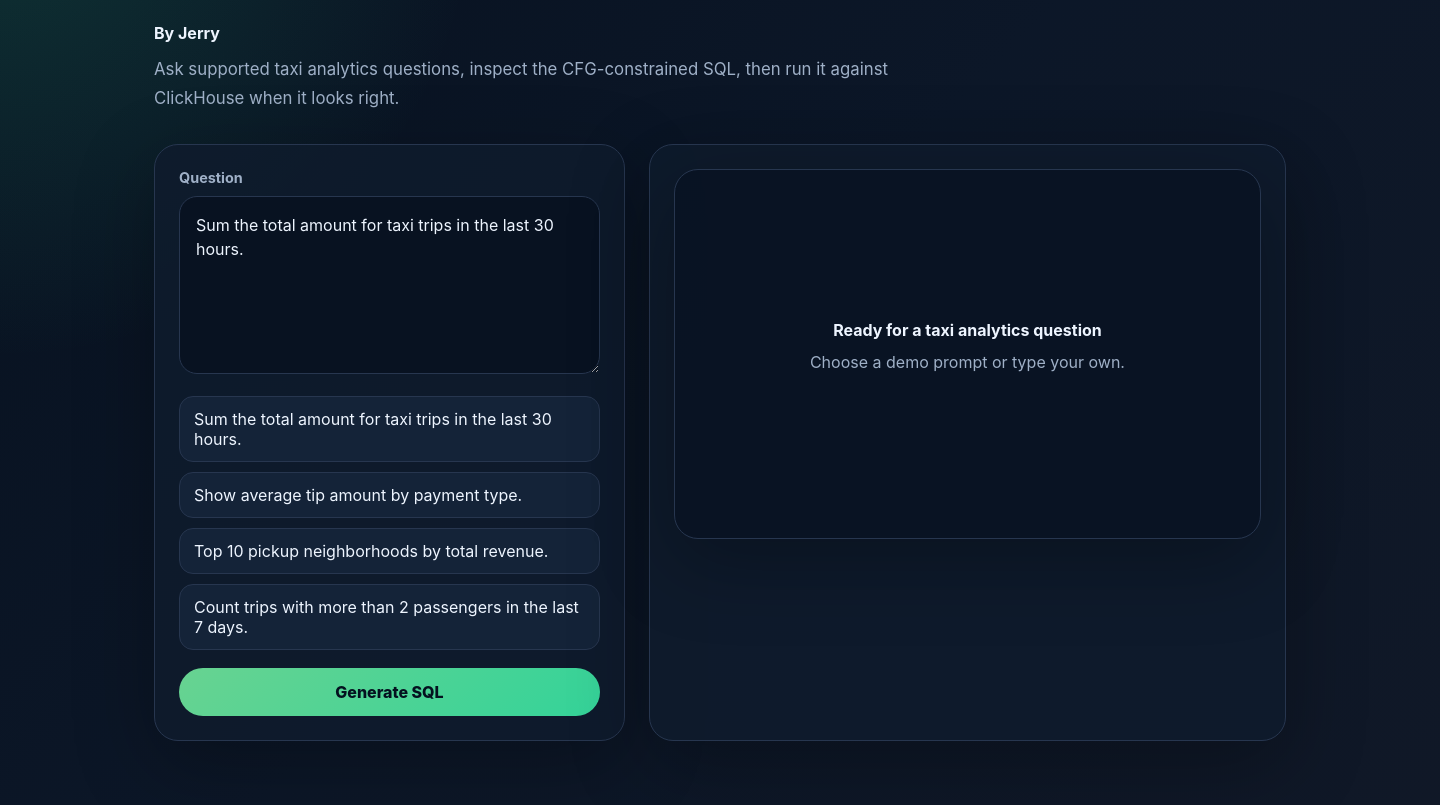
it: Home › renders CFG and non-CFG SQL before executing anything
(page scrolled)
What coordinates should you click on to do the following:
click the button "Generate SQL"
I would click on:
 (389, 692)
Its box is [179,668,600,716].
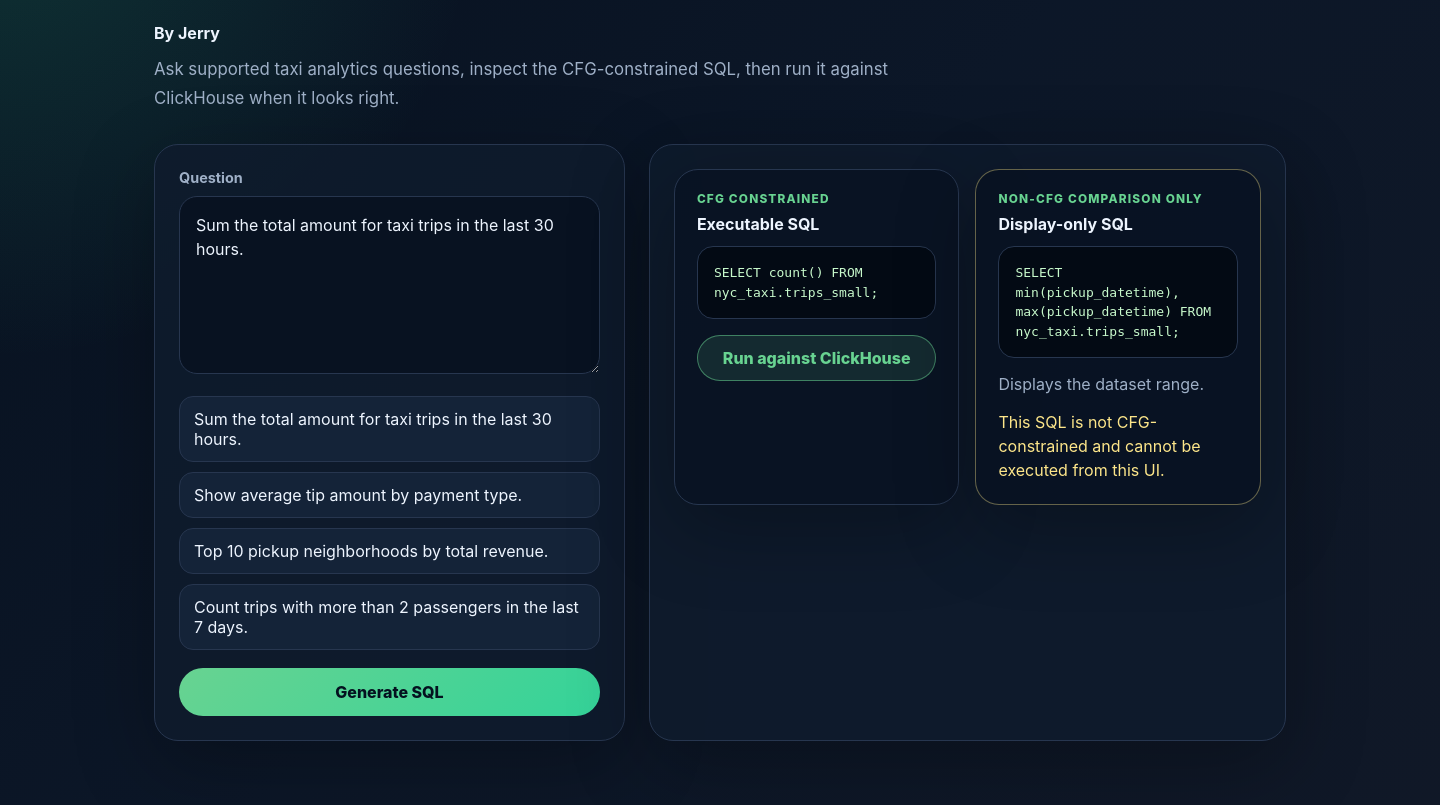
Check: the text "SELECT count() FROM nyc_taxi.trips_small;" is shown, box [697,246,936,319]
Check: the text "SELECT min(pickup_datetime), max(pickup_datetime) FROM nyc_taxi.trips_small;" is shown, box [998,246,1238,358]
Check: the heading "Display-only SQL" is shown, box [998,214,1133,234]
